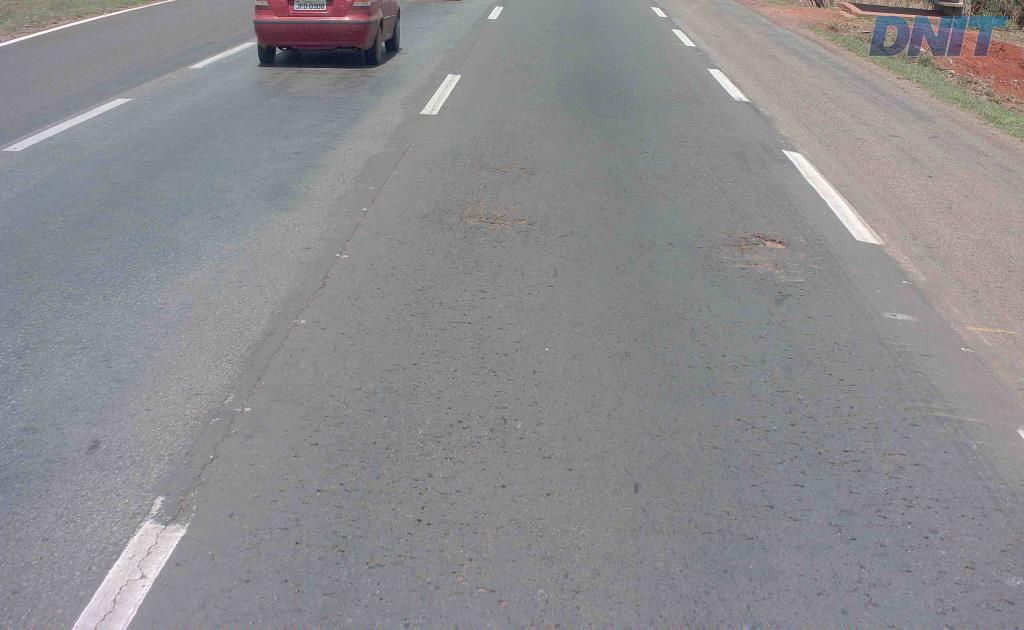pothole: (713, 222, 800, 252), (459, 209, 533, 233)
